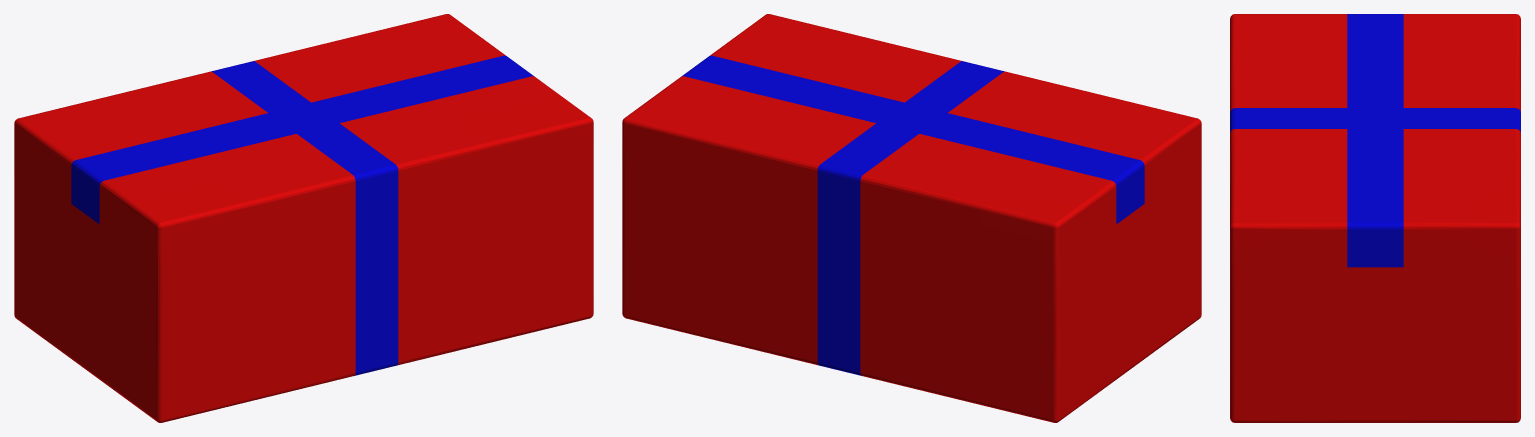
The model's file is carboardbox_1.fbx.
3 views of the same model, side by side, from view 1: azimuth 30°, elevation 25°; view 2: azimuth 150°, elevation 25°; view 3: azimuth 270°, elevation 25° (orthographic).
Visible parts, largest first — view 1: carboardbox_1; view 2: carboardbox_1; view 3: carboardbox_1.
Part boxes in pixels (bbox=[...]): carboardbox_1: bbox=[14, 14, 593, 422]; carboardbox_1: bbox=[622, 14, 1201, 422]; carboardbox_1: bbox=[1230, 14, 1520, 422].
Bounding box in the file's own units: 6.68 × 2.93 × 3.87.
